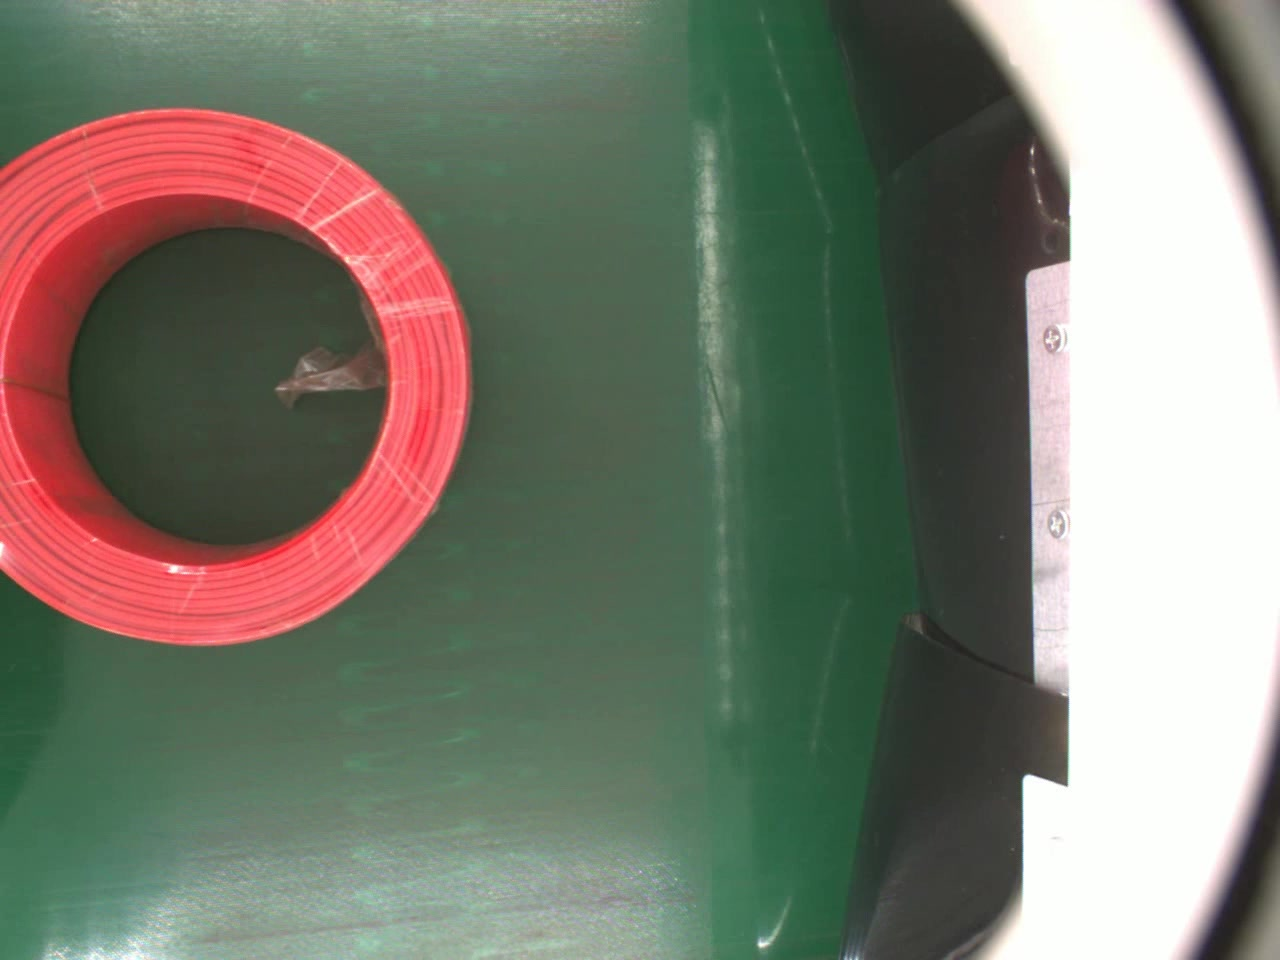red: (0, 107, 473, 652)
